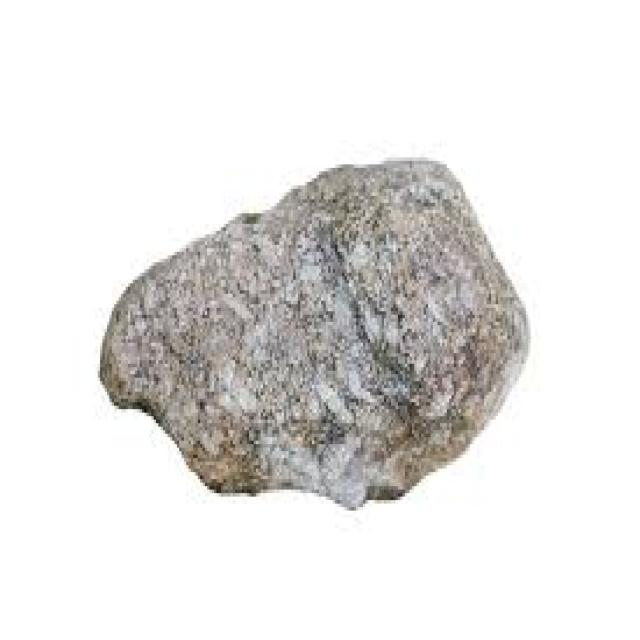Metamorphic: (93, 161, 535, 507)
